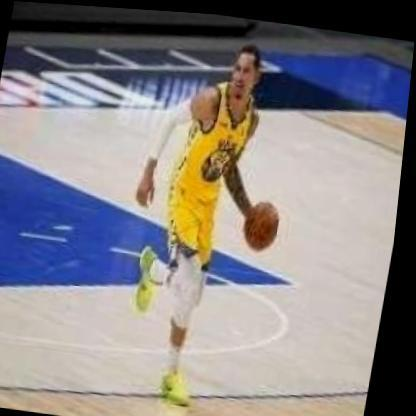basketball: (242, 194, 288, 250)
